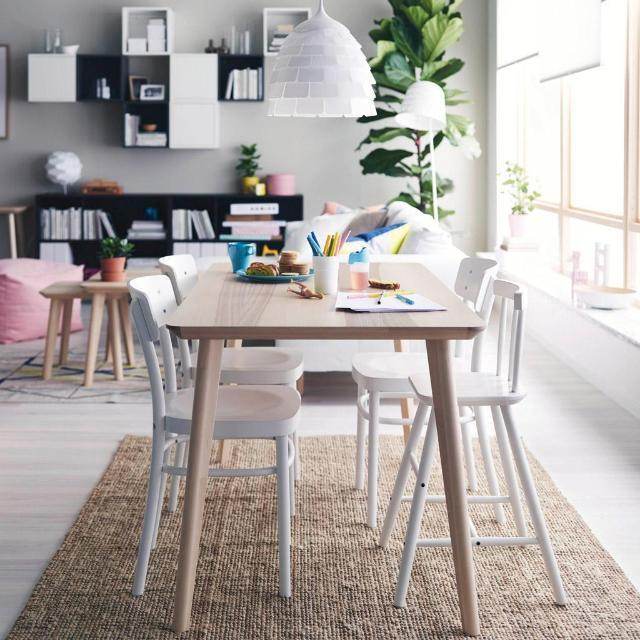chair: (455, 280, 566, 605), (129, 276, 194, 595), (210, 385, 300, 596), (380, 374, 450, 607)
curtain: (539, 0, 601, 81), (496, 0, 539, 68)
light: (266, 0, 376, 118)
plant: (101, 238, 134, 281)
rug: (6, 436, 640, 640), (0, 329, 150, 403)
table: (169, 262, 484, 634)
